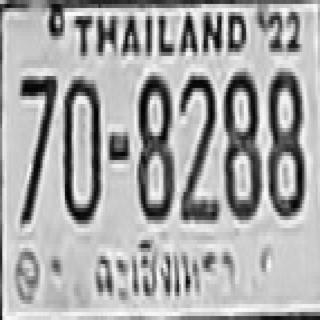N00: (63, 74, 98, 222)
N02: (179, 72, 217, 220)
N07: (18, 72, 56, 220)
N08: (222, 68, 260, 216), (266, 68, 302, 216), (137, 72, 172, 216)
P07: (88, 233, 244, 303)
